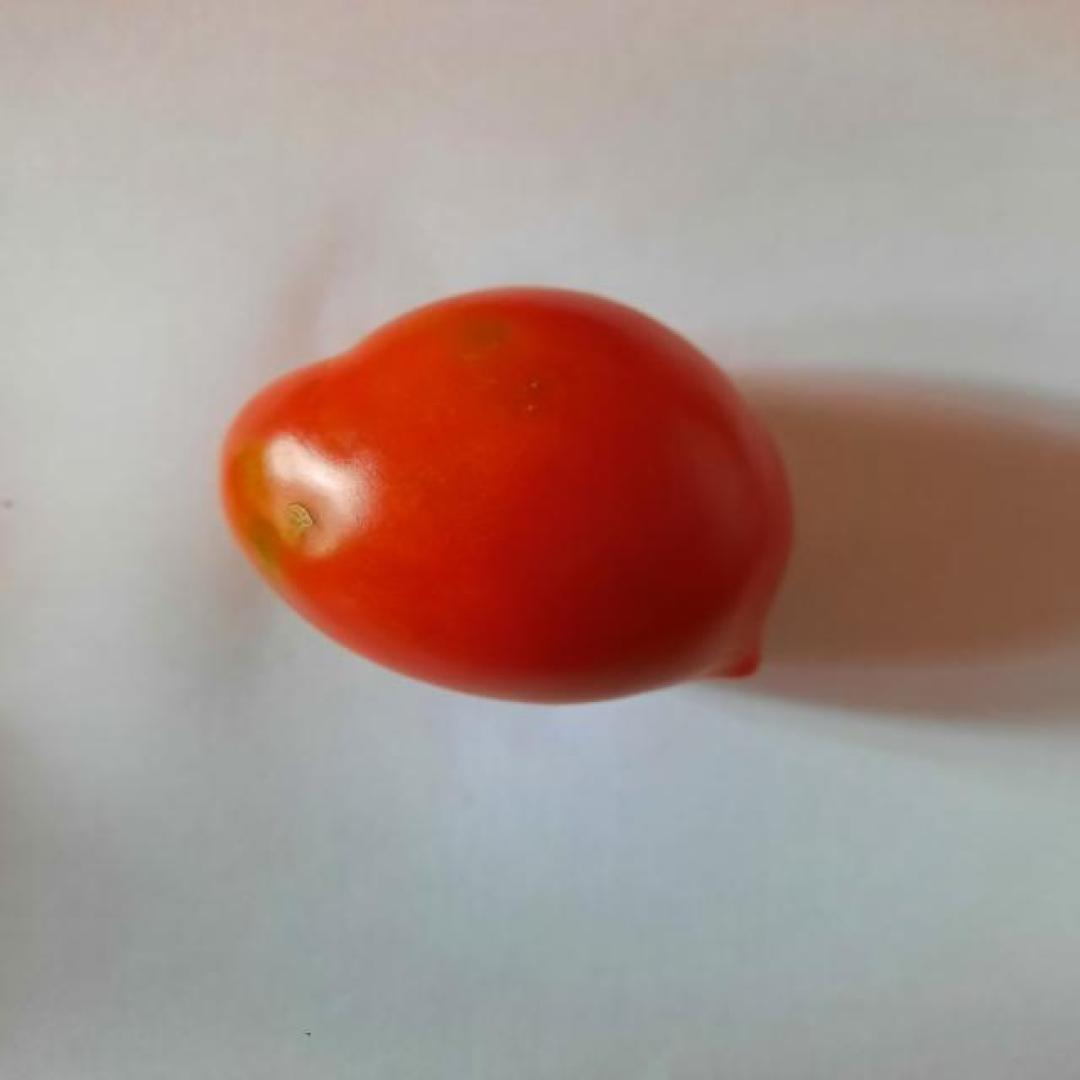matang: (211, 282, 805, 705)
